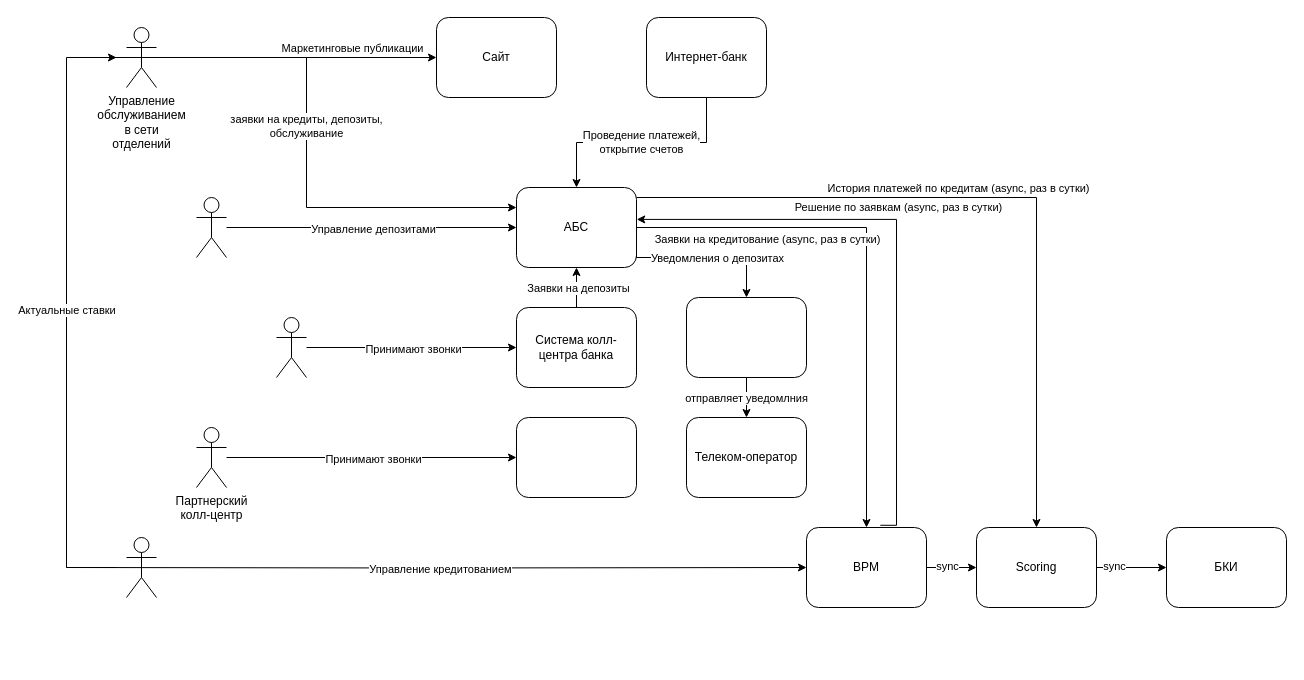
Some shapes in this 1304 by 680 pixel diagram are drawn without their labels. Here are the shapes that lost their labels. From the top down, the centre of each, then its label:
At point (211, 227): "Управление обсулуживанием депозитных проектов".
At point (291, 347): "Колл-центр банка".
At point (746, 337): "СМС-шлюз".
At point (576, 457): "Система колл-центра партнера".
At point (141, 567): "Управление обсулуживанием кредитных проектов".
